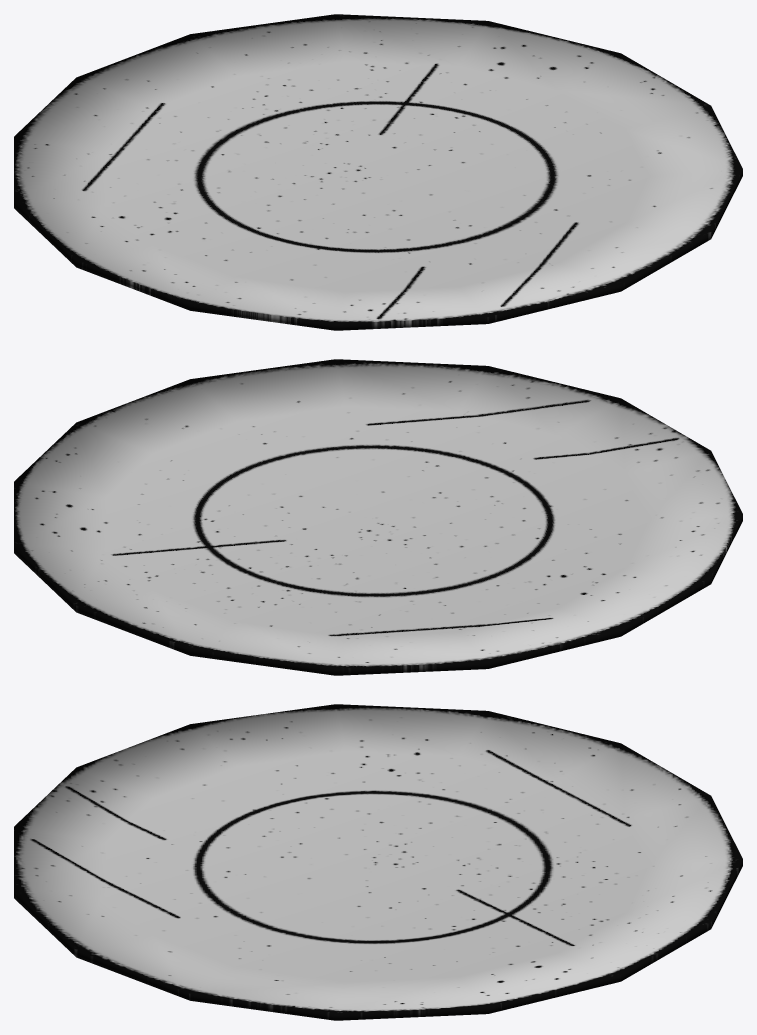
The model's file is plate.obj.
3 views of the same model, one above another, from view 1: azimuth 30°, elevation 25°; view 2: azimuth 150°, elevation 25°; view 3: azimuth 270°, elevation 25° (orthographic).
Visible parts, largest first — view 1: plate; view 2: plate; view 3: plate.
Boxes of the visible parts, left/top/right/bottom form: plate: left=14, top=14, right=742, bottom=330; plate: left=14, top=359, right=742, bottom=675; plate: left=14, top=704, right=742, bottom=1020.
Size of the model in its own units: 1.99 by 0.0423 by 1.98.
